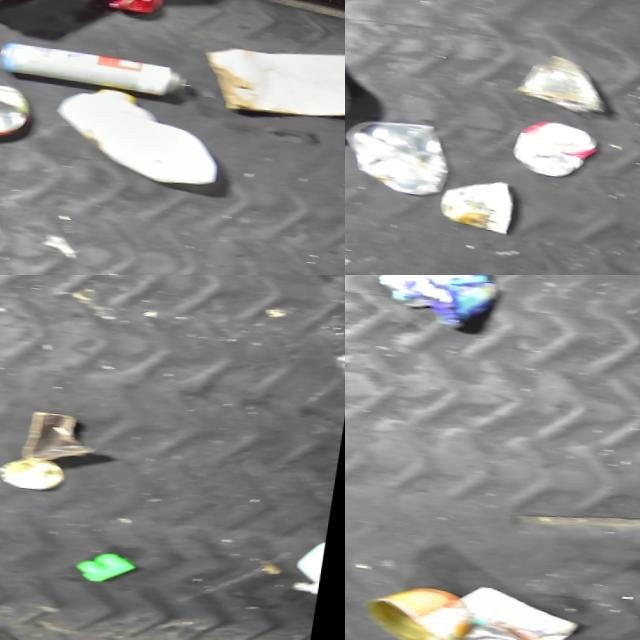can: (363, 577, 480, 640), (512, 113, 603, 180), (0, 451, 71, 491), (461, 618, 568, 640), (0, 75, 34, 141)
milk_jug: (48, 79, 234, 189)
